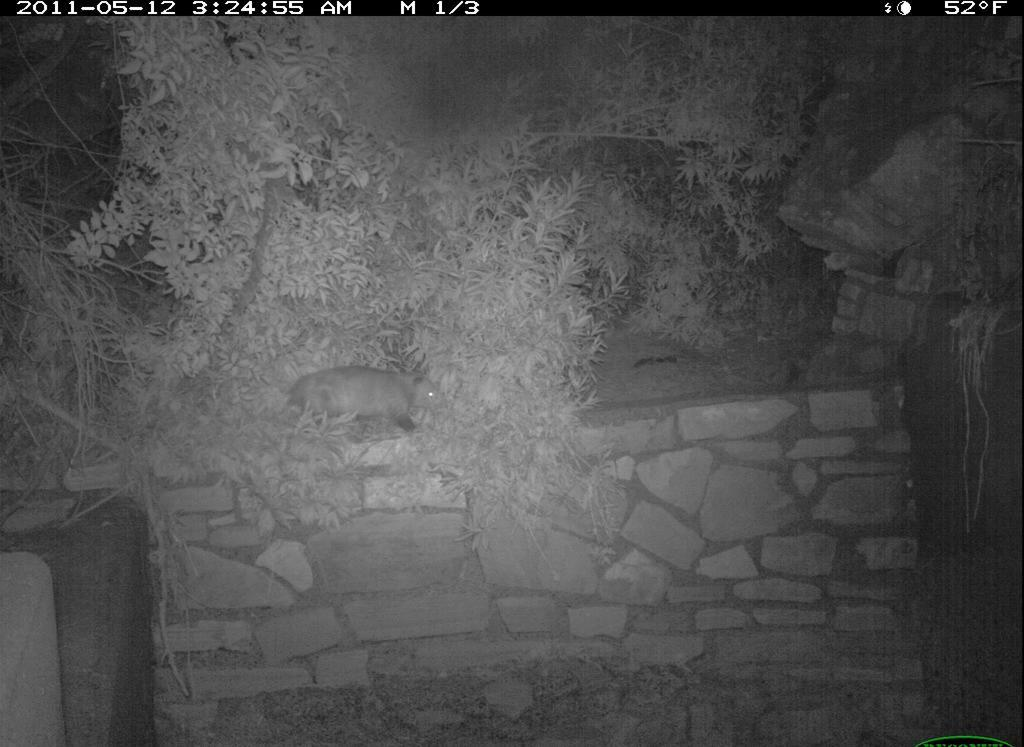opossum: (268, 337, 472, 457)
